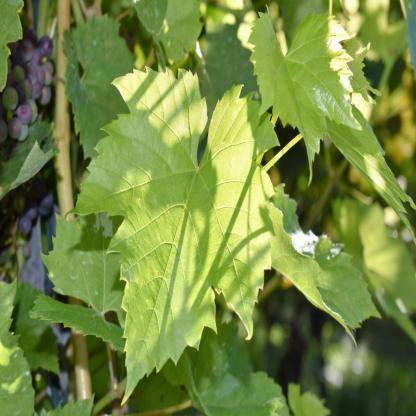grape leaf black rot: (66, 64, 284, 416), (262, 177, 390, 349), (246, 3, 354, 174)
